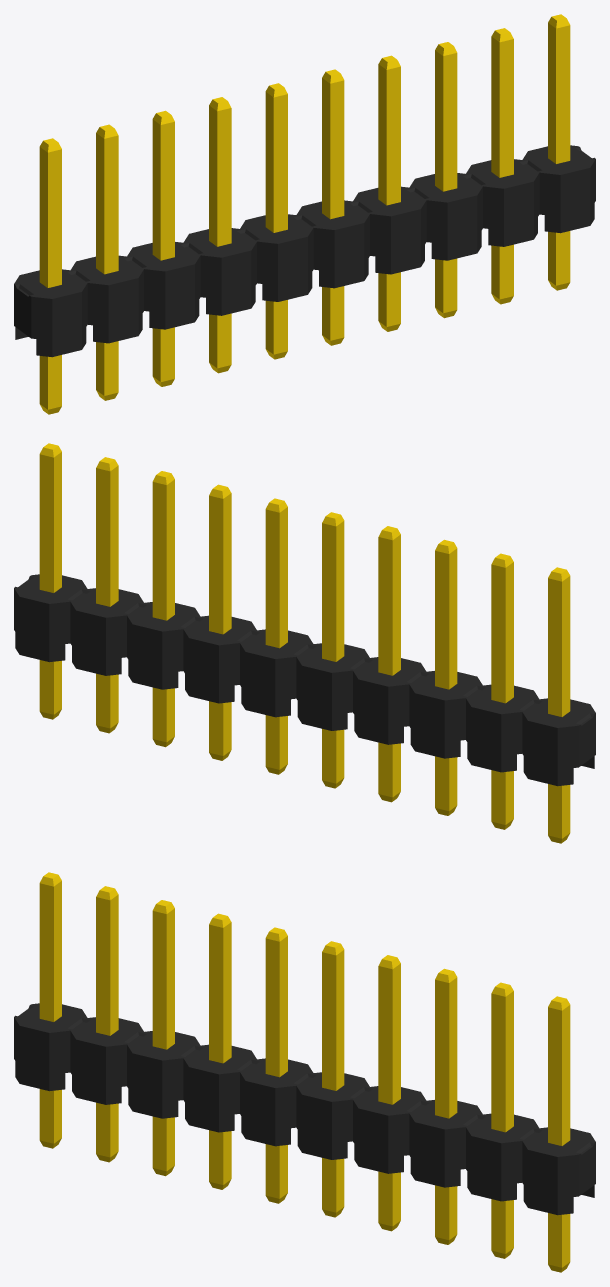
Rendered from PLS10.glb.
3 renders of one model, top to bottom at view 1: azimuth 30°, elevation 25°; view 2: azimuth 150°, elevation 25°; view 3: azimuth 330°, elevation 25°, orthographic.
Visible parts, largest first — view 1: PLS (DS1021 CONNFLY); view 2: PLS (DS1021 CONNFLY); view 3: PLS (DS1021 CONNFLY).
Part boxes in pixels (x1,y1,x2,y2): PLS (DS1021 CONNFLY): [14, 14, 595, 414]; PLS (DS1021 CONNFLY): [14, 443, 595, 843]; PLS (DS1021 CONNFLY): [14, 872, 595, 1272].
Bounding box in the file's own units: 0.0254 × 0.0116 × 0.00254.
